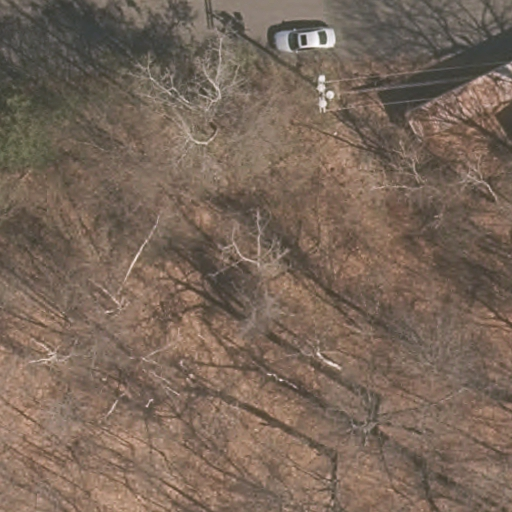DT: (304, 69, 348, 122)
